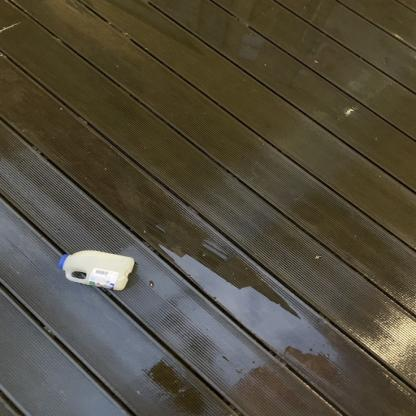trash: (54, 249, 136, 294)
